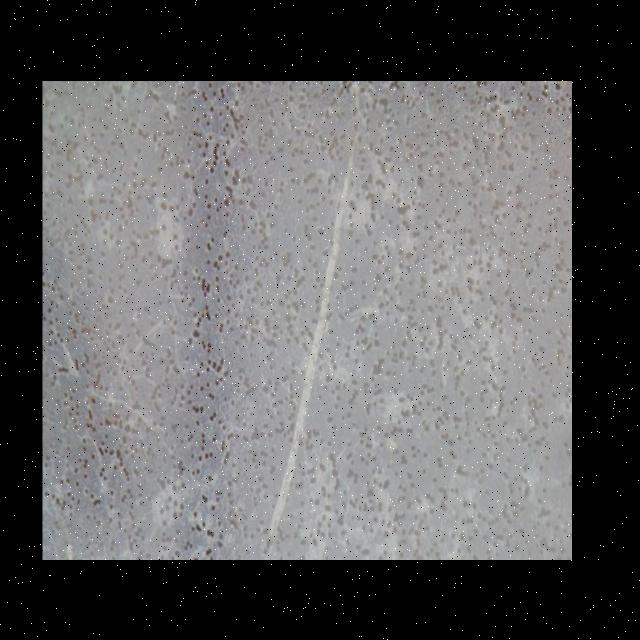Fibre: (256, 114, 366, 560)
